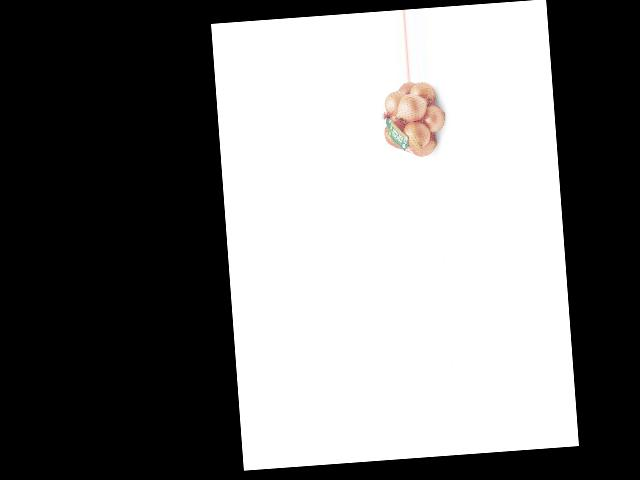onion: (411, 131, 438, 159)
